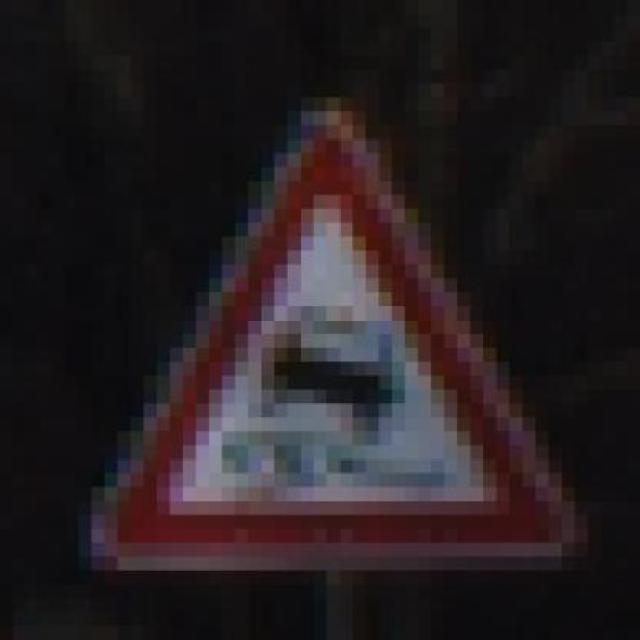Slippery Road Ahead: (78, 97, 588, 571)
